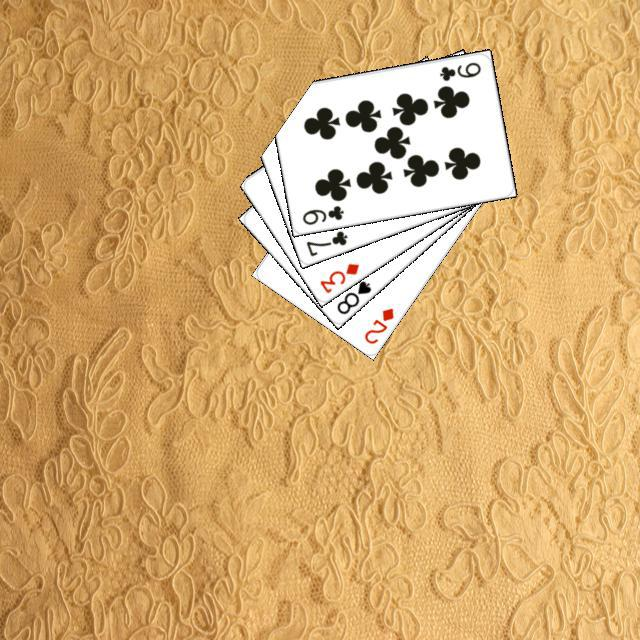2d: (359, 303, 396, 346)
3d: (315, 258, 361, 295)
7c: (301, 226, 349, 258)
8s: (331, 276, 373, 316)
9c: (297, 200, 345, 227), (435, 57, 482, 83)
